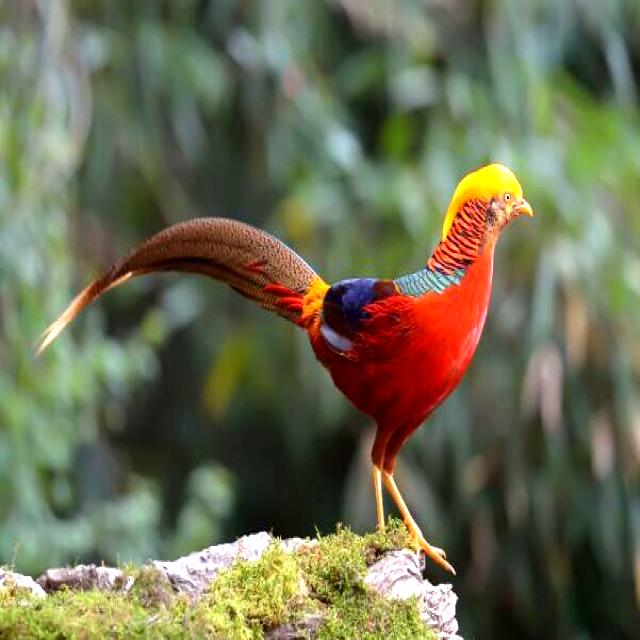Chrysolophus pictus feather: (34, 218, 319, 358)
